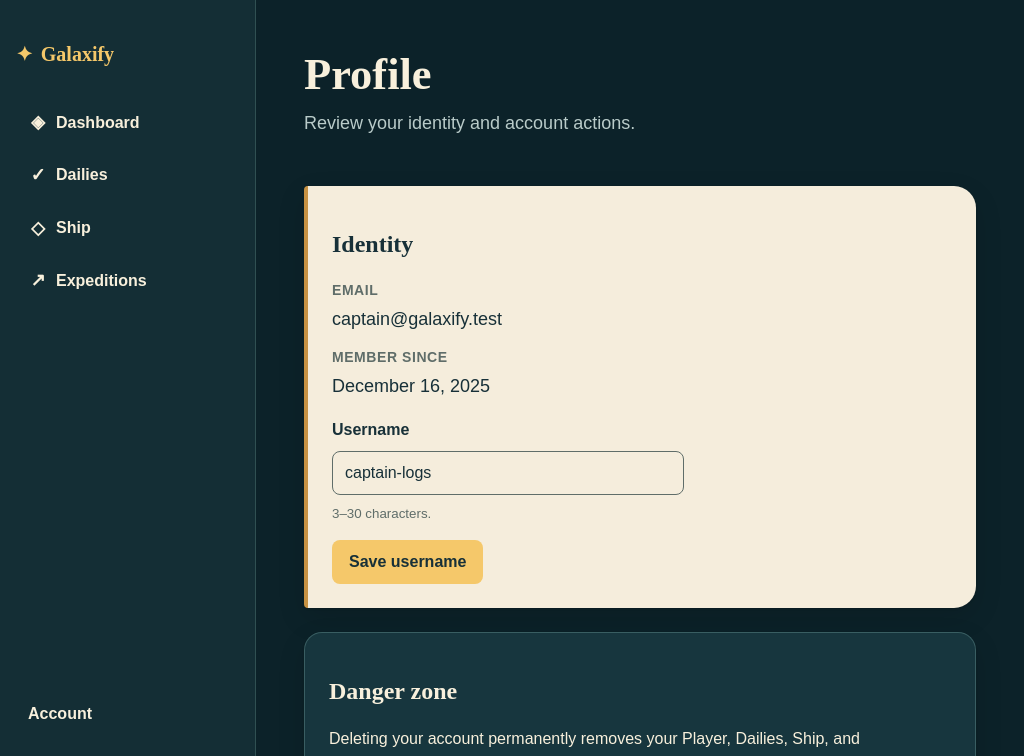
Test: Profile page › validates the username client-side before contacting the server
This screenshot has width=1024, height=756.
Check: the heading "Profile" is shown, box [304,49,432,99]
Check: the text "captain@galaxify.test" is shown, box [332,309,502,329]
Replace the text in the field labelled "Username" with "ab" at [508, 473], box [332,451,684,495]
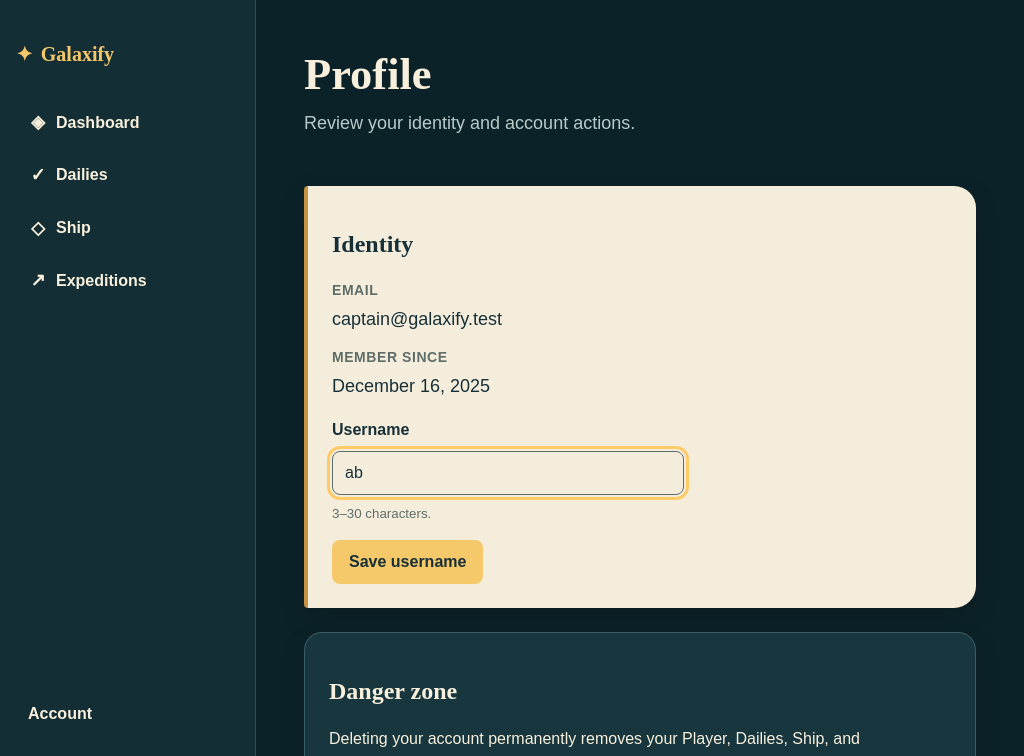
Click the button "Save username" at [408, 562], box [332,540,483,584]
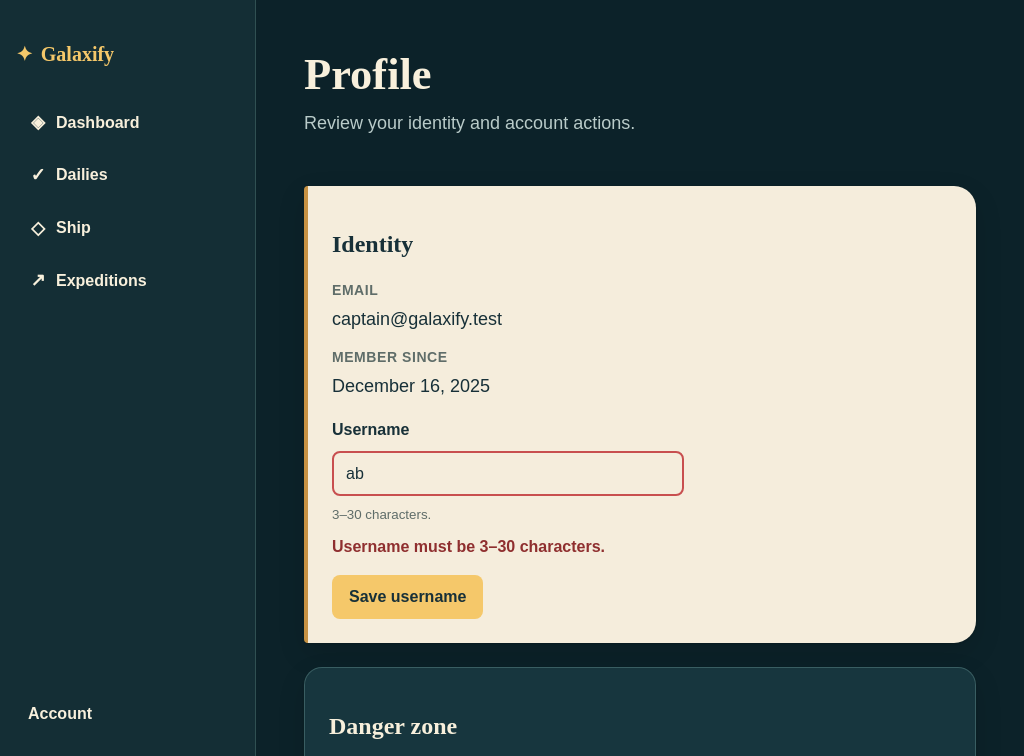
Check: the text "Username must be 3–30 characters." is shown, box [332,538,605,555]
